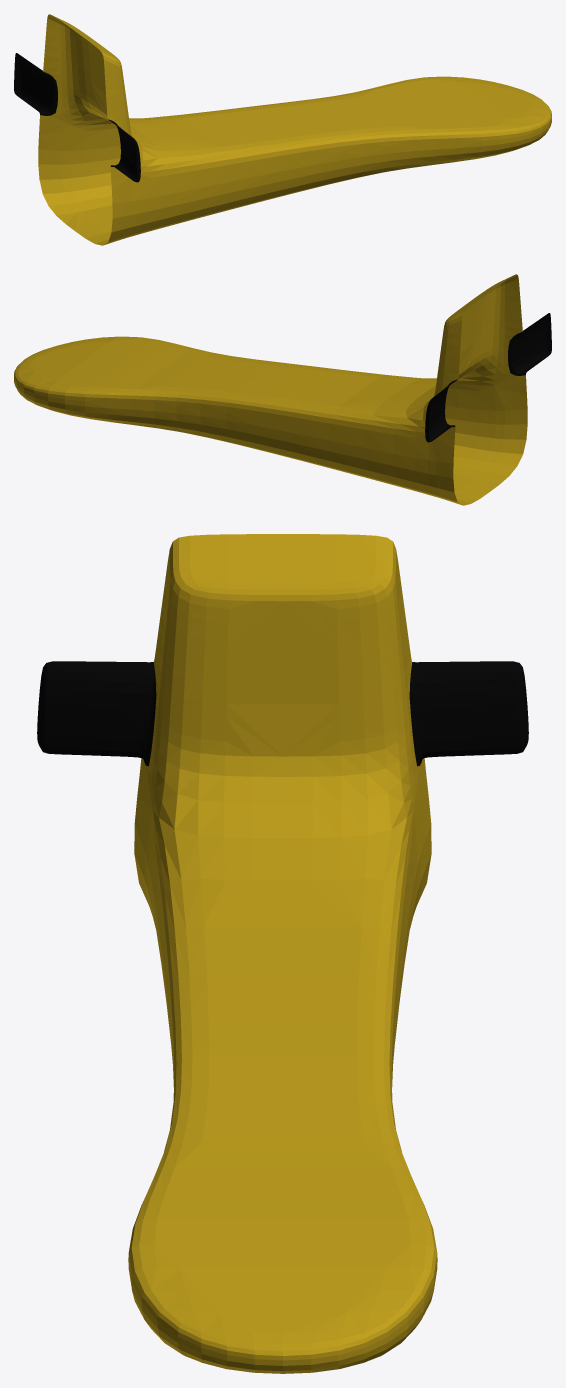
Rendered from Pedal1.obj.
3 views of the same model, one above another, from view 1: azimuth 30°, elevation 25°; view 2: azimuth 150°, elevation 25°; view 3: azimuth 270°, elevation 25° (orthographic). The views are drawn at different scales.
Parts seen in each view (by area): view 1: Pedal1; view 2: Pedal1; view 3: Pedal1.
Part boxes in pixels (x1,y1,x2,y2): Pedal1: (14,14,551,245); Pedal1: (14,274,551,505); Pedal1: (37,534,528,1373).
Bounding box in the file's own units: 0.086 × 0.0351 × 0.0392.
